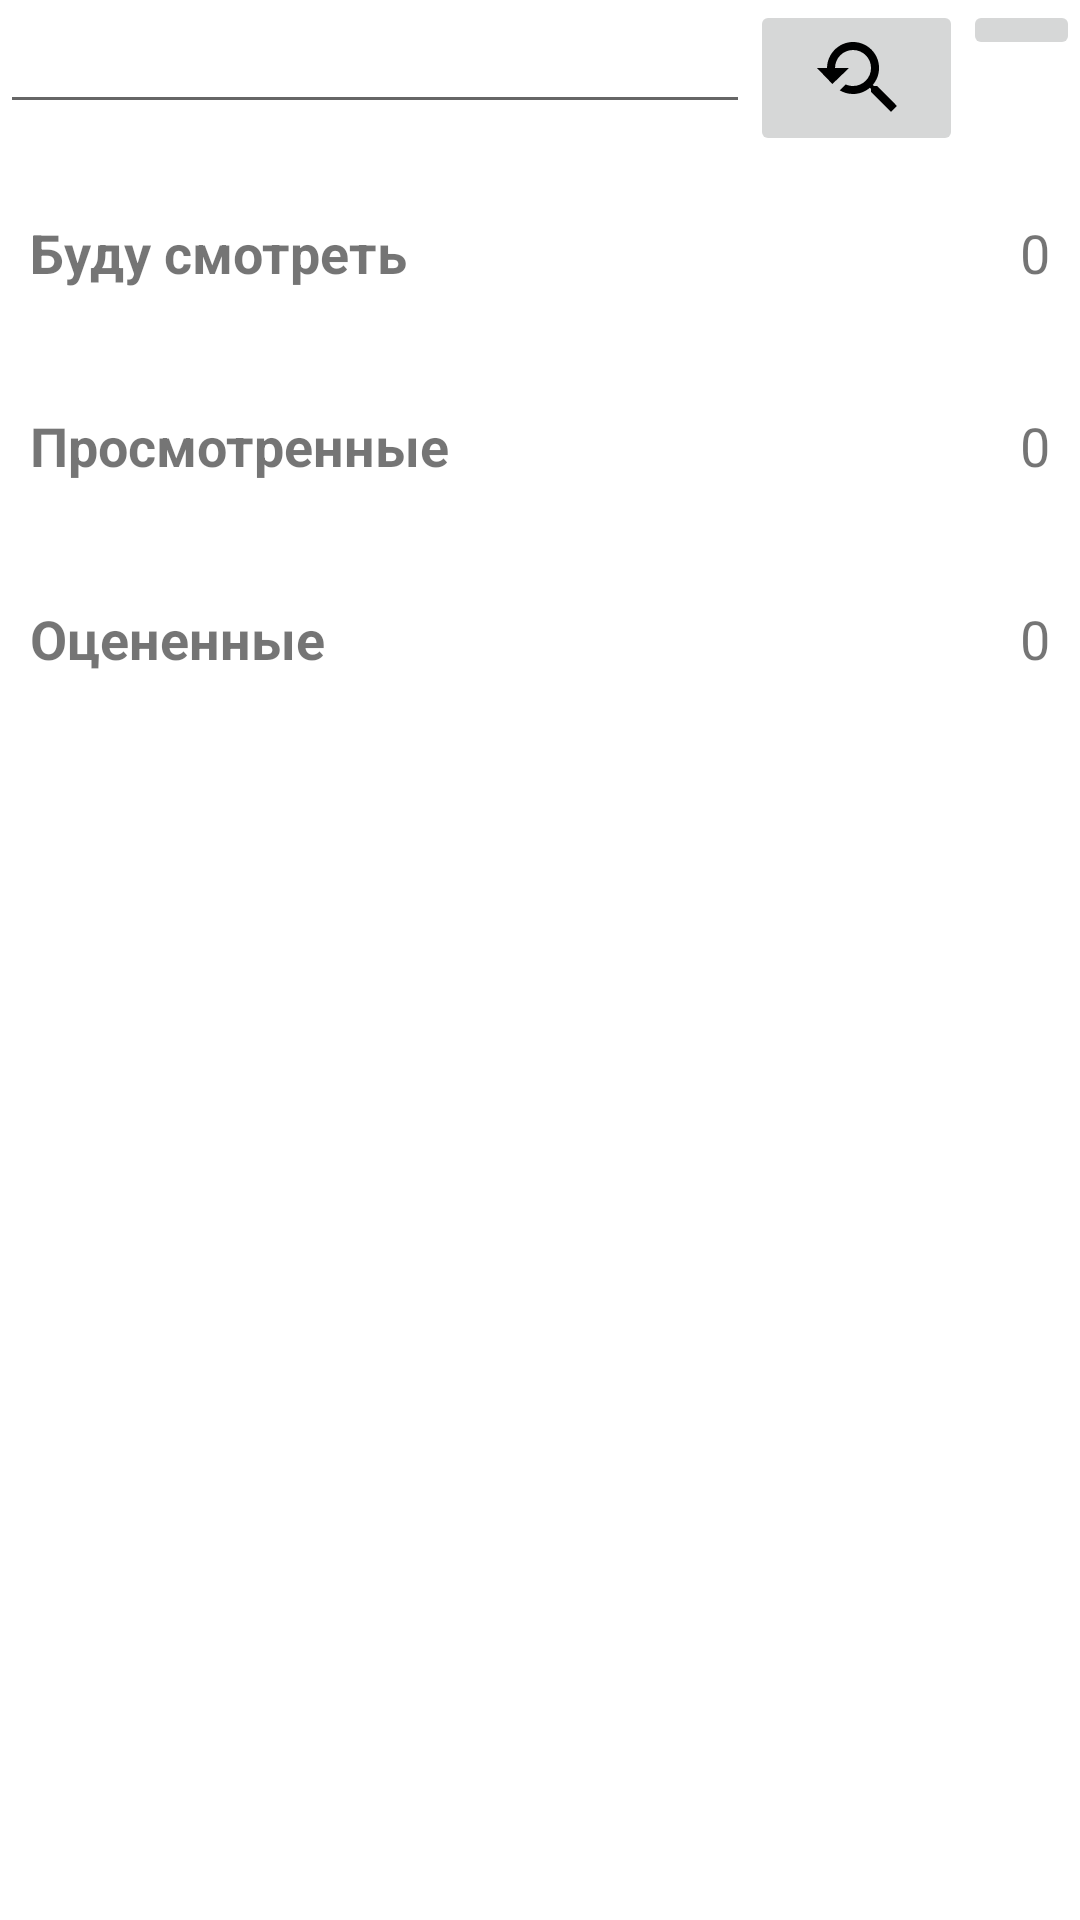

Locate icon controls on the screen. Image size 1080w x 1920h, boxes as (x1, y1, x2, y2).
reset searched for: (762, 18, 951, 138)
